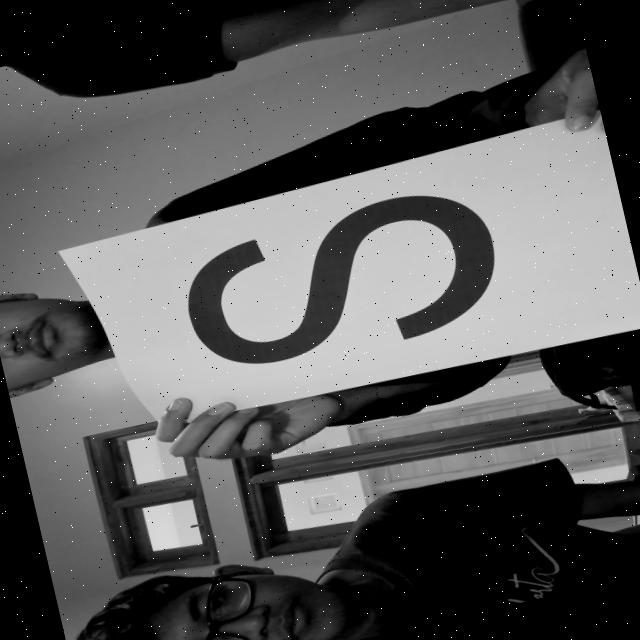s: (158, 145, 562, 403)
